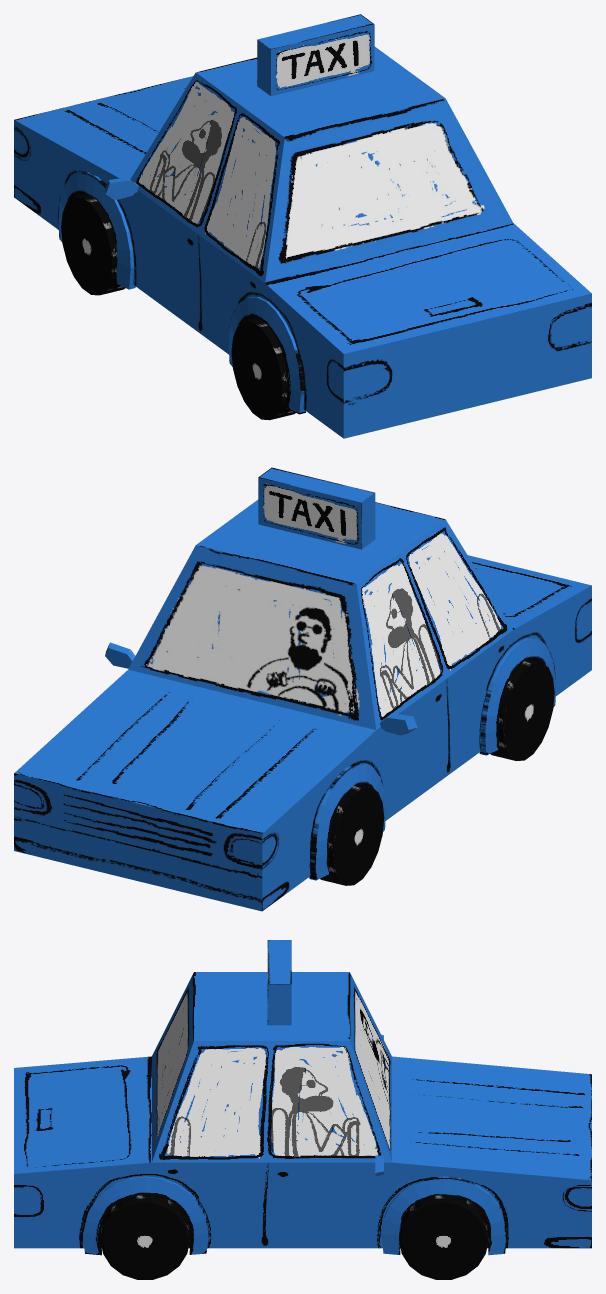
Rendered from autio_plavi.fbx.
3 renders of one model, top to bottom at view 1: azimuth 30°, elevation 25°; view 2: azimuth 150°, elevation 25°; view 3: azimuth 270°, elevation 25°, orthographic. The views are drawn at different scales.
Parts seen in each view (by area): view 1: Box001.002, Box001.003, Box001.005; view 2: Box001.002, Box001.005, Box001.003; view 3: Box001.002, Box001.004, Box001.001.
Part boxes in pixels (<box>): Box001.002: <box>14,14,591,438</box>; Box001.003: <box>61,193,125,295</box>; Box001.005: <box>231,318,295,420</box>; Box001.002: <box>14,467,591,911</box>; Box001.005: <box>490,659,554,760</box>; Box001.003: <box>320,784,384,885</box>; Box001.002: <box>14,940,591,1255</box>; Box001.004: <box>399,1194,488,1279</box>; Box001.001: <box>100,1194,189,1279</box>.
Bounding box in the file's own units: 4584 × 4153 × 8408.
Materials: 4 (4 with a texture image).
